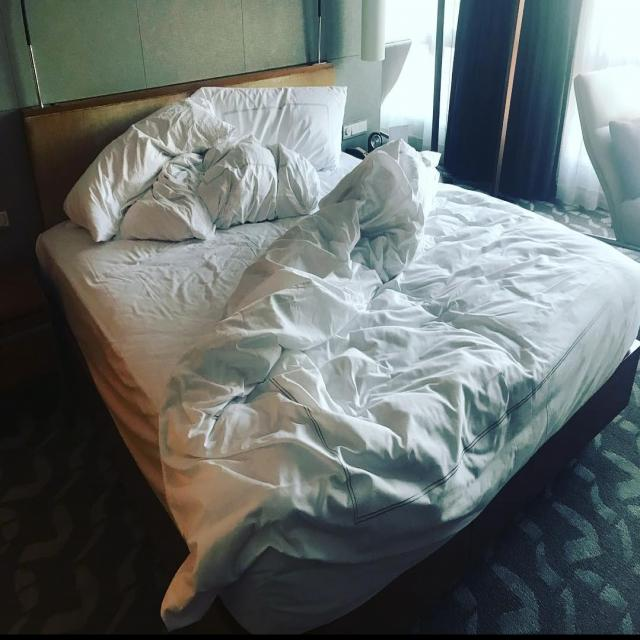bed: (19, 90, 618, 480)
